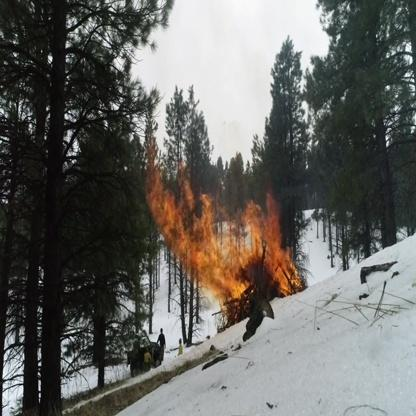Fire: (143, 132, 307, 321)
